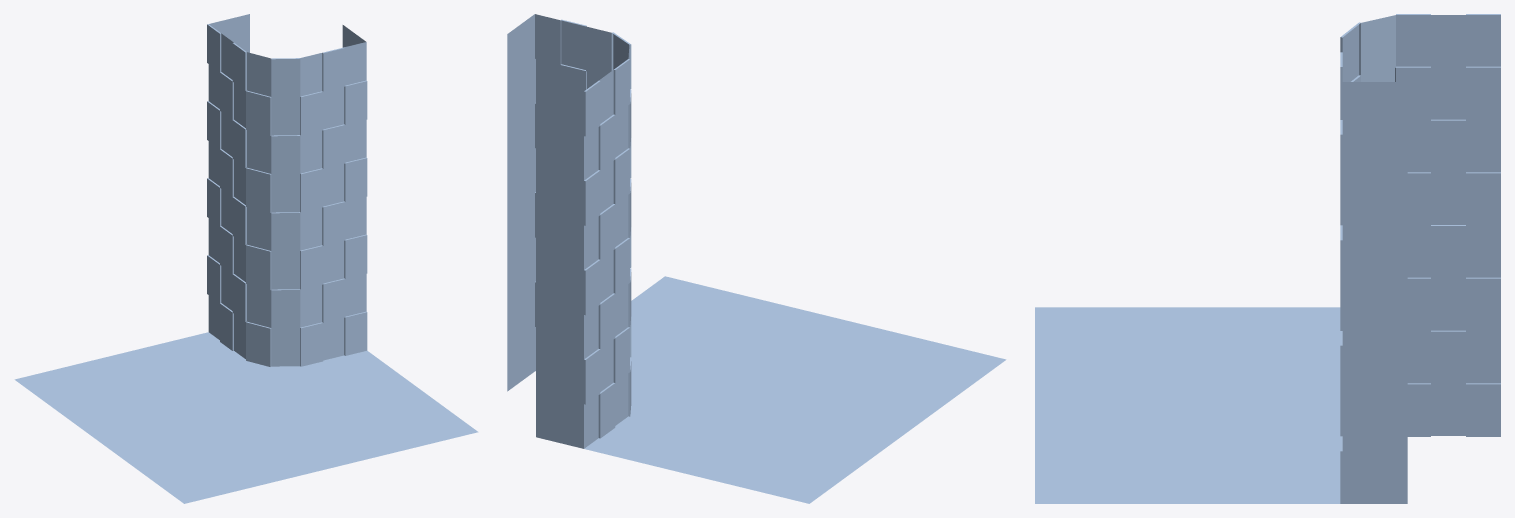
File: ColumnaGiro.gltf
3 views of the same model, side by side, from view 1: azimuth 30°, elevation 25°; view 2: azimuth 150°, elevation 25°; view 3: azimuth 270°, elevation 25° (orthographic). The views are drawn at different scales.
Parts seen in each view (by area): view 1: Columna esquina; view 2: Columna esquina; view 3: Columna esquina.
Boxes of the visible parts, x1,y1,x2,y2 form: Columna esquina: (14, 14, 478, 503); Columna esquina: (507, 14, 1006, 503); Columna esquina: (1035, 14, 1500, 503).
Bounding box in the file's own units: 2 × 2 × 2.
